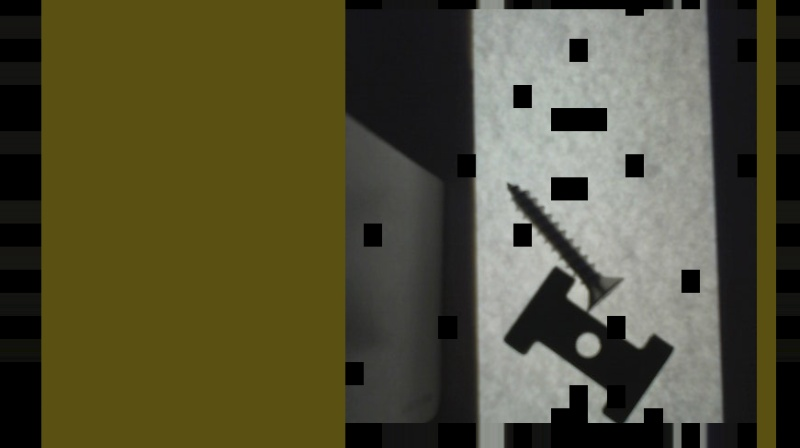O002: (506, 270, 674, 426)
S001: (501, 178, 627, 313)
